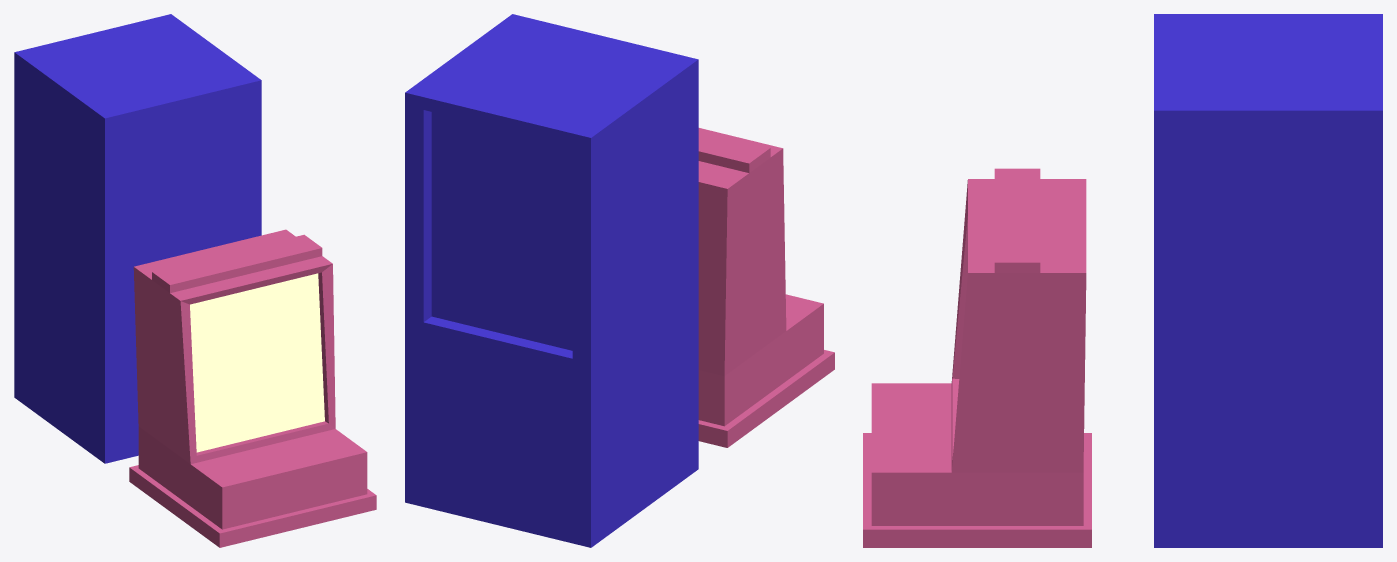
Rendered from main.gltf.
The picture shows the model from 3 angles, left to right: view 1: azimuth 30°, elevation 25°; view 2: azimuth 150°, elevation 25°; view 3: azimuth 270°, elevation 25°; orthographic projection. The views are drawn at different scales.
Parts seen in each view (by area): view 1: 立方体, Cube; view 2: 立方体, Cube; view 3: 立方体, Cube.
Boxes of the visible parts, x1,y1,x2,y2 form: 立方体: [14, 14, 261, 463]; Cube: [129, 229, 376, 547]; 立方体: [405, 14, 698, 547]; Cube: [698, 128, 834, 447]; 立方体: [1154, 14, 1382, 547]; Cube: [863, 168, 1091, 547].
Size of what is drawn, in the model's own units: 2 by 4.21 by 4.54.
